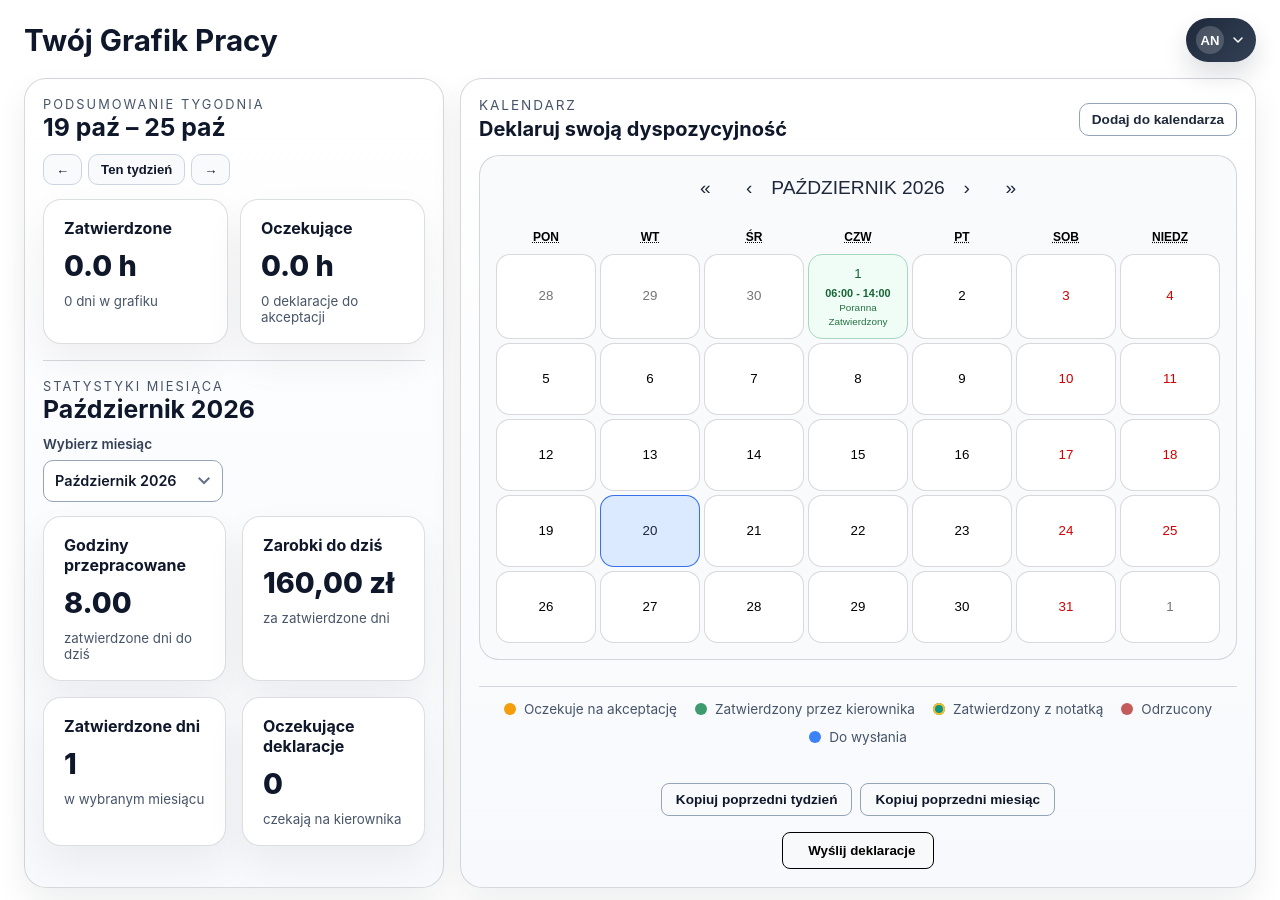
Test: copying the previous week
Click the button "Kopiuj poprzedni tydzień" at (757, 799), box [661, 783, 852, 816]
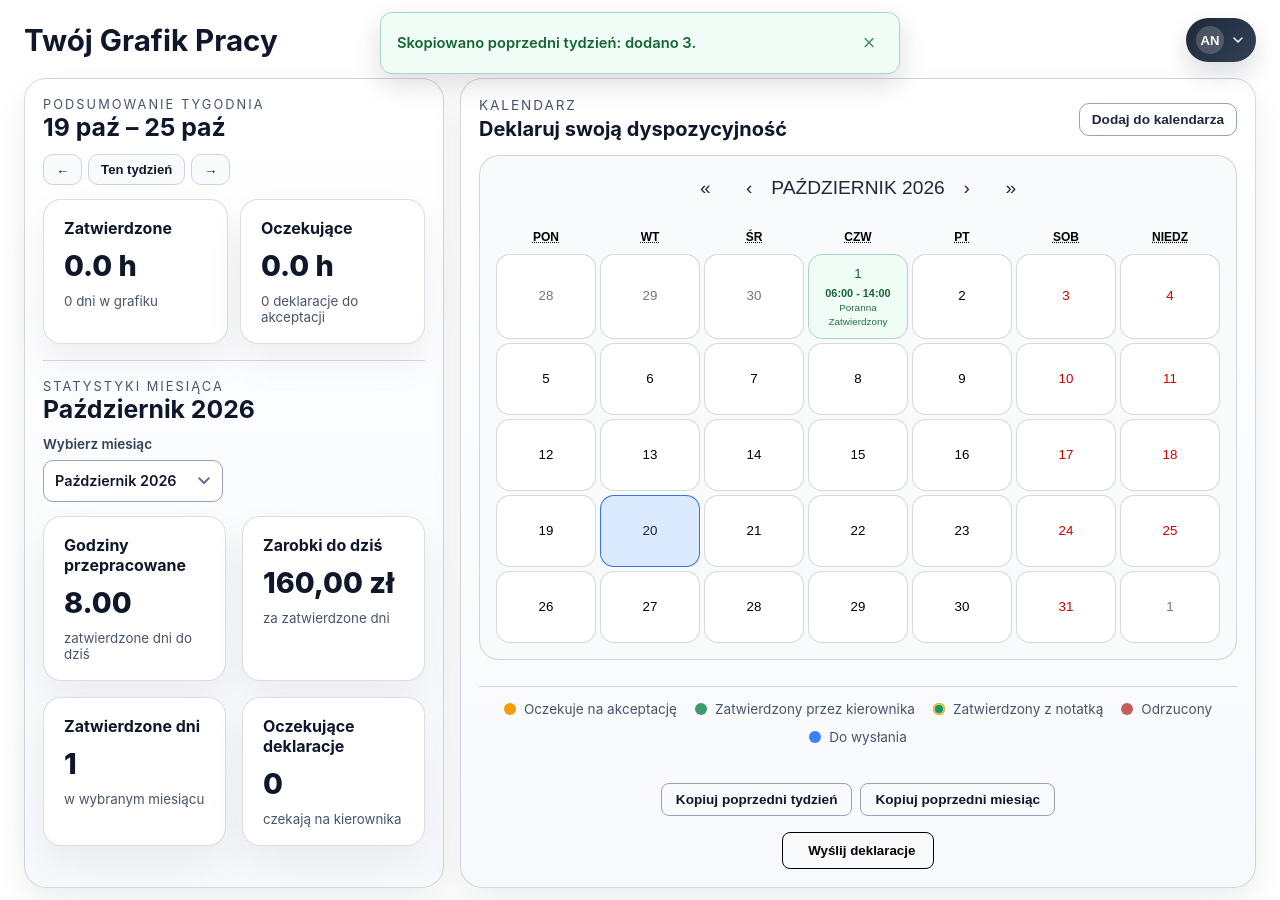
Now the text "Skopiowano poprzedni tydzień: dodano 3." is shown, box [397, 34, 696, 52]
